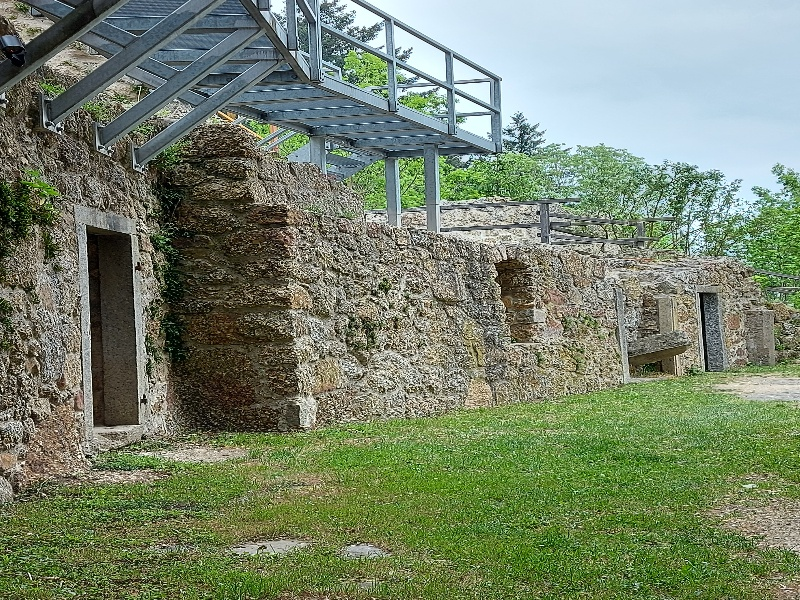door1: (64, 196, 162, 450)
door2: (677, 277, 733, 373)
